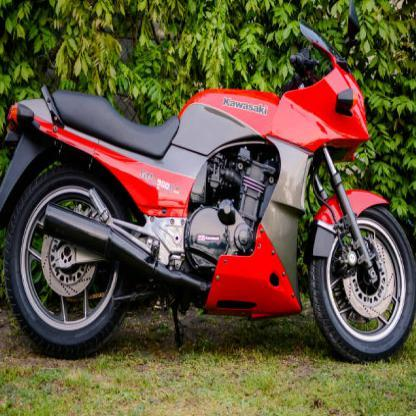Motorcycle: (2, 0, 415, 366)
